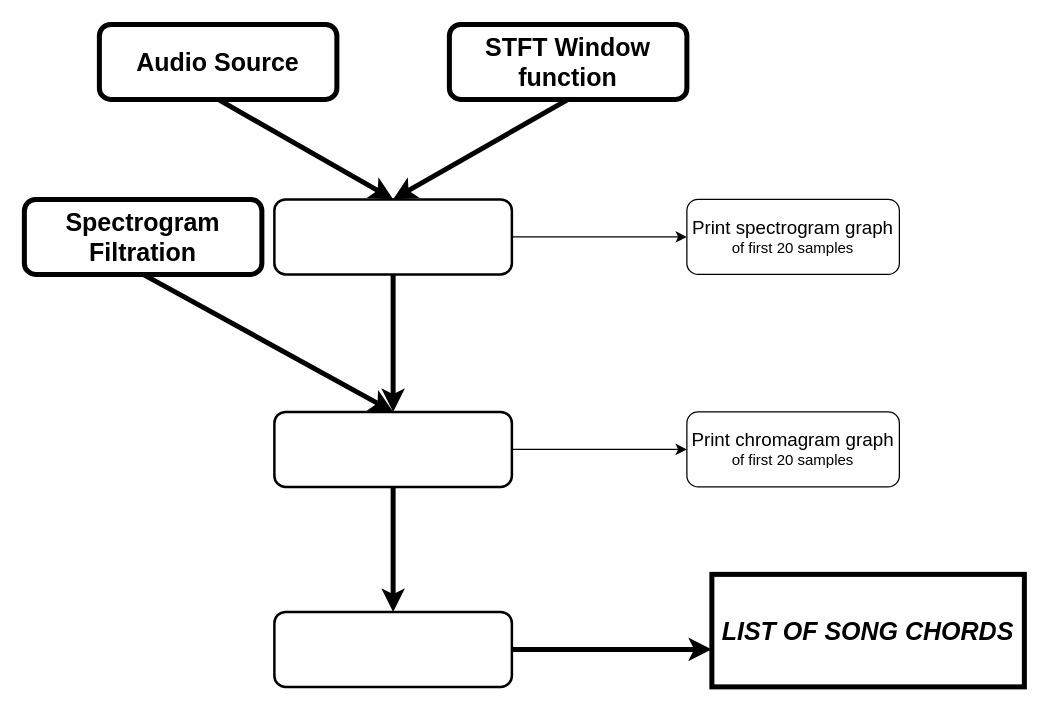
The diagram is 1048 pixels wide and 710 high, and some of its shapes have lost their labels. The shapes that lost their labels are listed below. From the top down, each one's centre as x and y in pixels, then its label:
At [392,236]: "Spectrogram".
At [392,449]: "Chromagram".
At [392,649]: "Chord Classifier".
